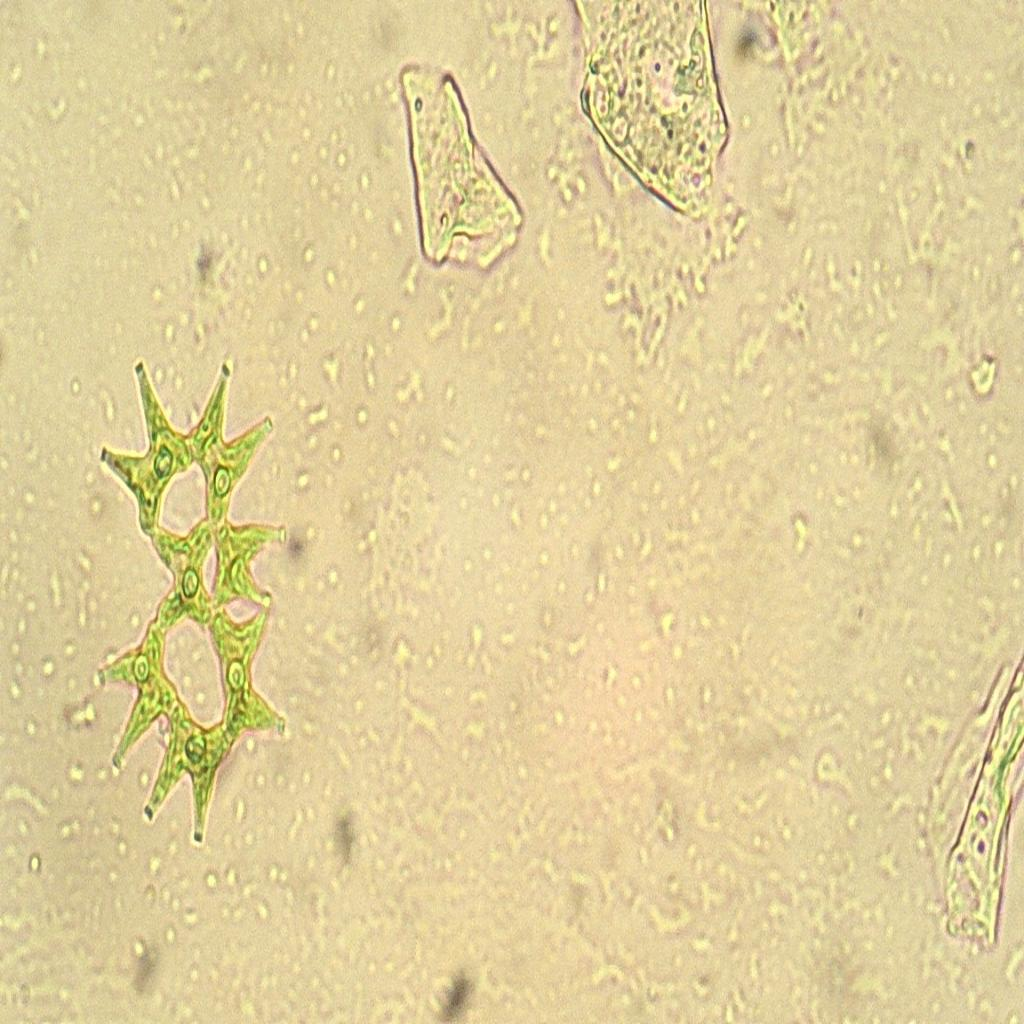Pediastrum_1TH: (84, 339, 299, 866)
